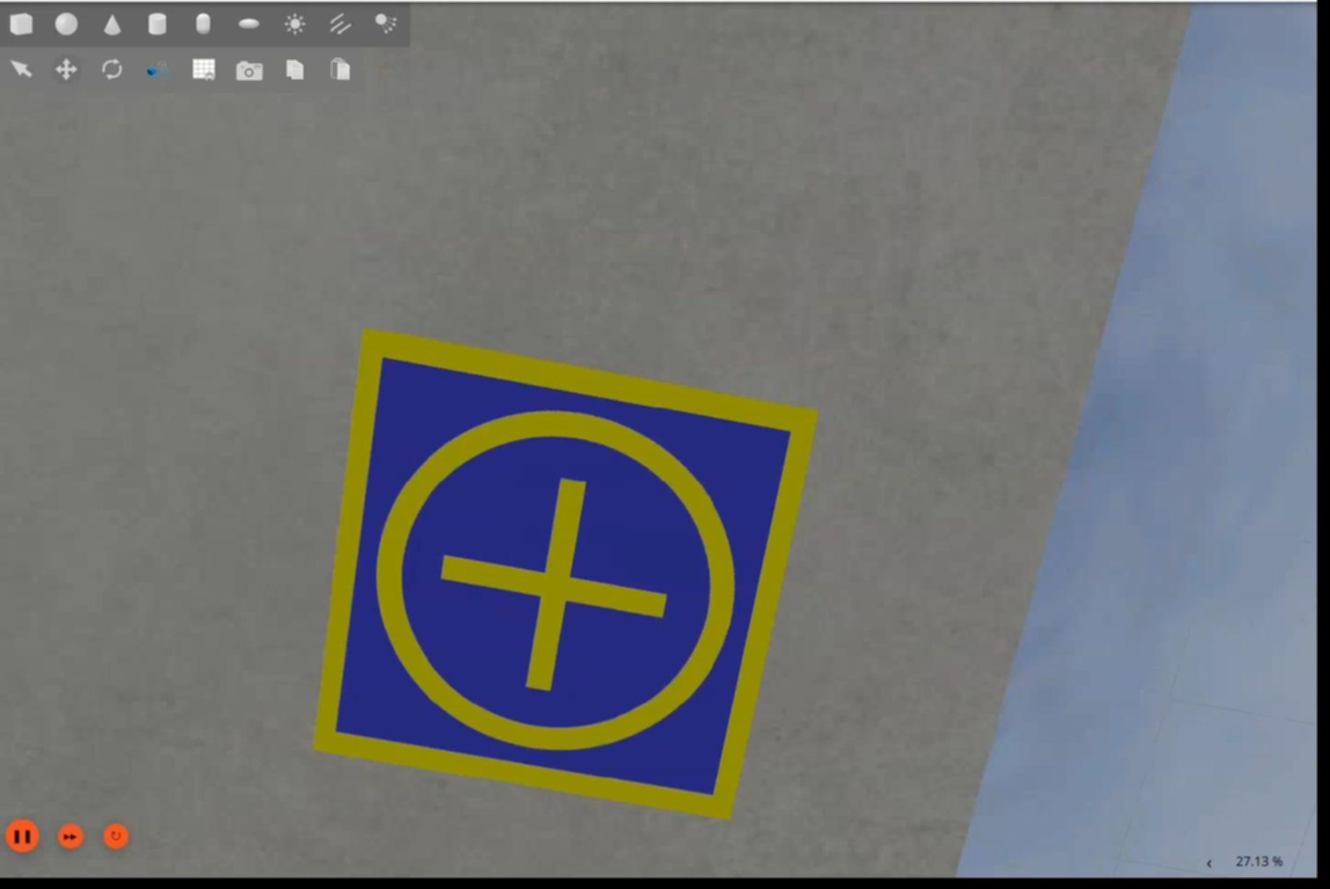small_base: (315, 323, 821, 827)
